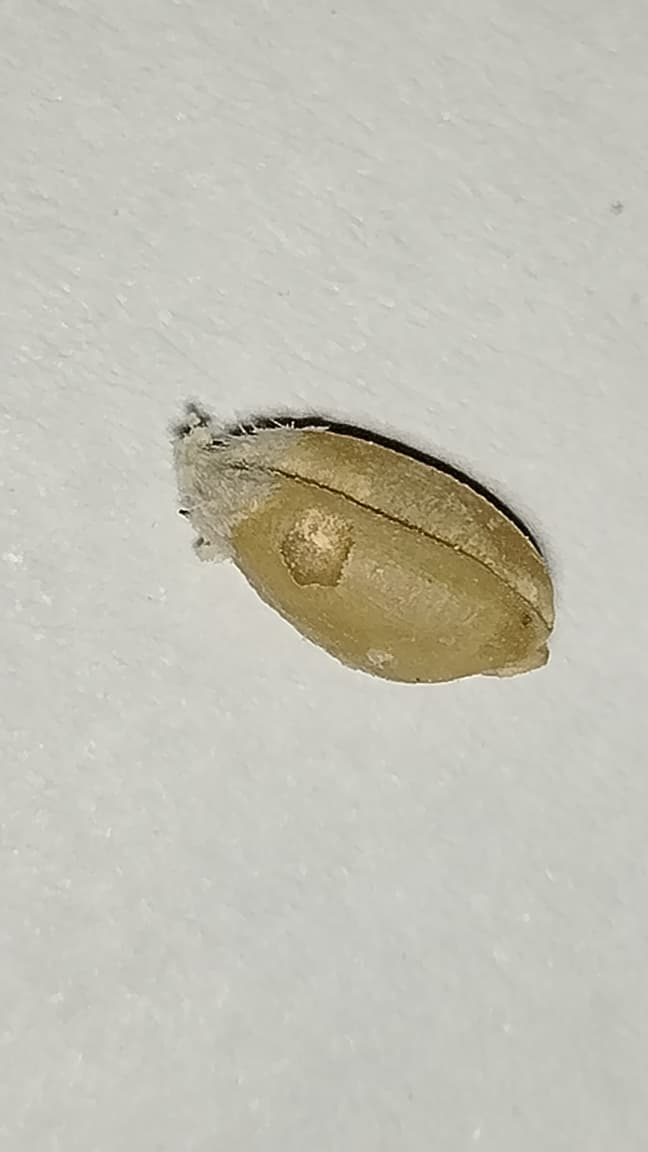damage: (173, 406, 553, 683)
insectdamage: (274, 479, 371, 594)
molddamage: (167, 405, 244, 527)
